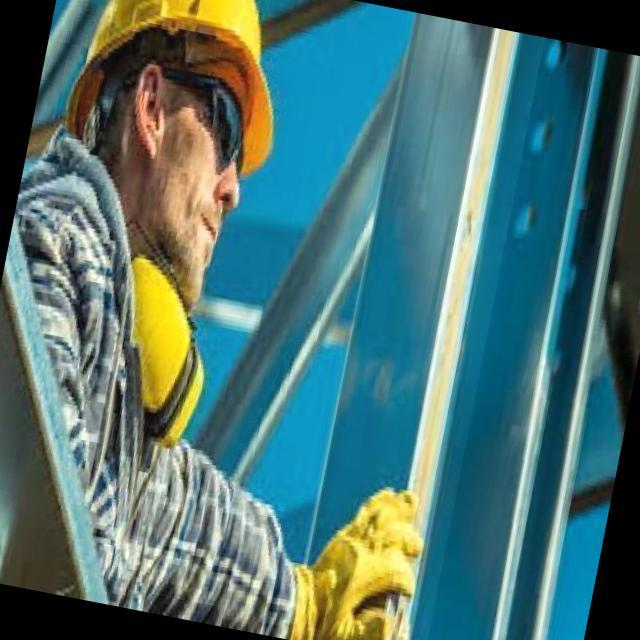Gloves: (287, 474, 435, 640)
Helmet: (59, 0, 304, 187)
Person: (0, 2, 463, 640)
no-vest: (0, 124, 286, 640)
